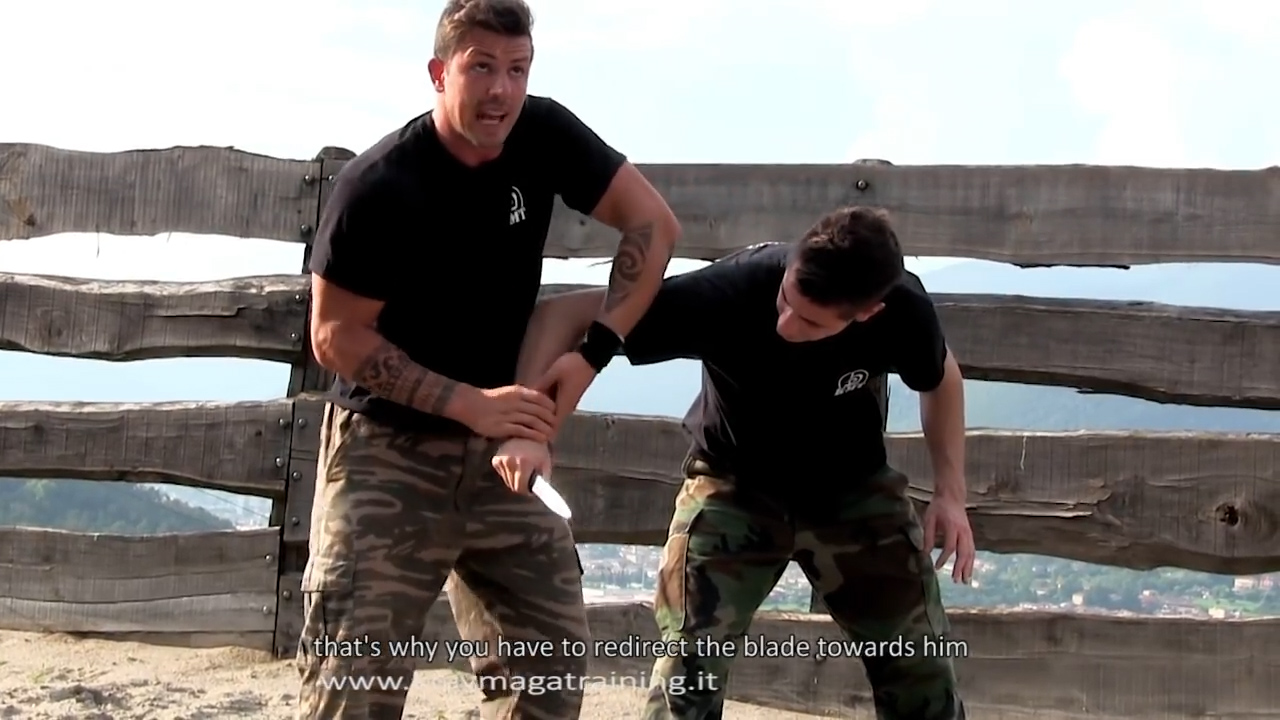knife: (492, 442, 589, 531)
